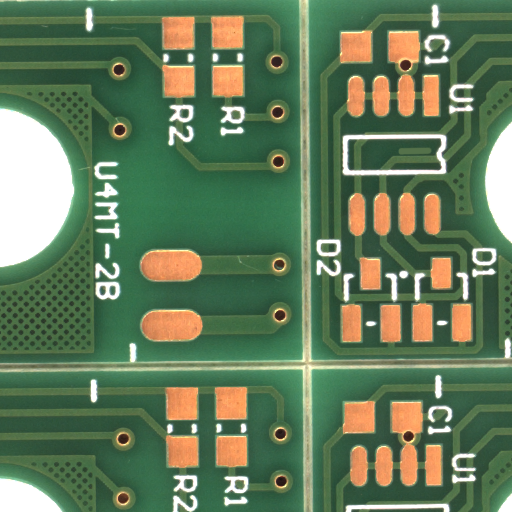Spurious_copper: (412, 150, 451, 159)
